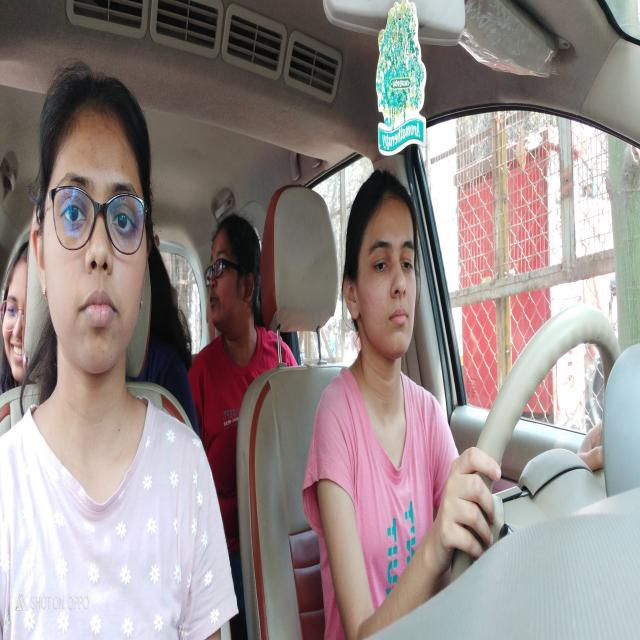person: (28, 65, 154, 370), (341, 169, 423, 374), (205, 208, 265, 335), (2, 250, 30, 382)
